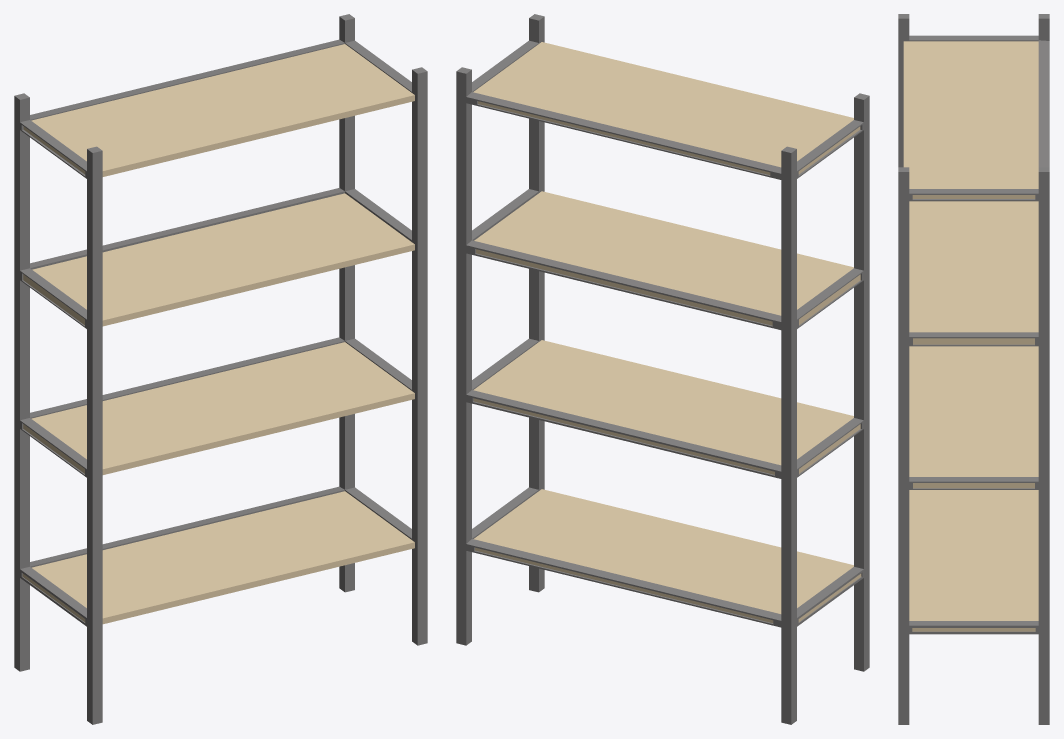
Rendered from Chemie kast.fbx.
3 views of the same model, side by side, from view 1: azimuth 30°, elevation 25°; view 2: azimuth 150°, elevation 25°; view 3: azimuth 270°, elevation 25° (orthographic). The views are drawn at different scales.
Parts seen in each view (by area): view 1: Cube.007; view 2: Cube.007; view 3: Cube.007.
Part boxes in pixels (x1,y1,x2,y2): Cube.007: (14,14,427,724); Cube.007: (456,14,869,724); Cube.007: (898,14,1049,724).
Bounding box in the file's own units: 428 × 699 × 174.
